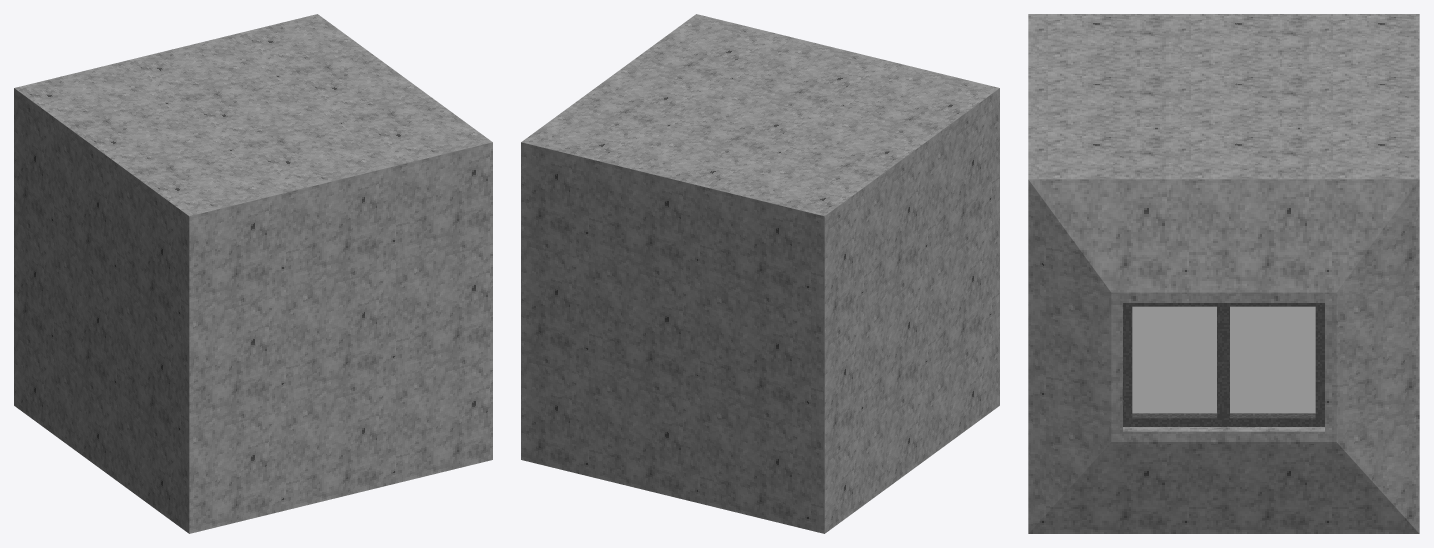
The model's file is Window2.fbx.
The picture shows the model from 3 angles, left to right: view 1: azimuth 30°, elevation 25°; view 2: azimuth 150°, elevation 25°; view 3: azimuth 270°, elevation 25°; orthographic projection. The views are drawn at different scales.
Visible parts, largest first — view 1: Cube.002; view 2: Cube.002; view 3: Cube.002.
Boxes of the visible parts, left/top/right/bottom form: Cube.002: left=14, top=14, right=492, bottom=533; Cube.002: left=521, top=14, right=999, bottom=533; Cube.002: left=1028, top=14, right=1419, bottom=533.
Size of the model in its own units: 213 by 200 by 200.
